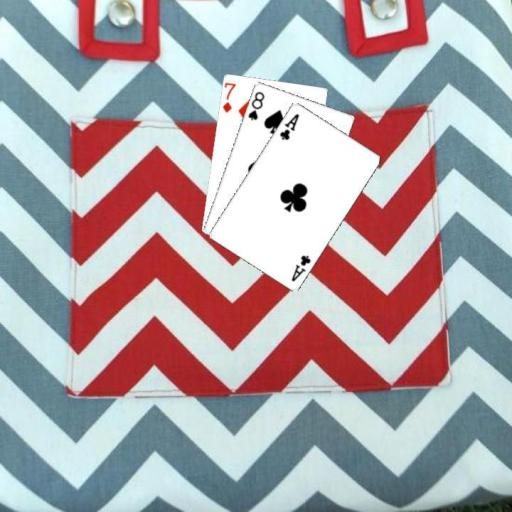7D: (220, 80, 237, 114)
8S: (245, 88, 266, 122)
AC: (277, 110, 301, 142), (288, 252, 312, 283)
